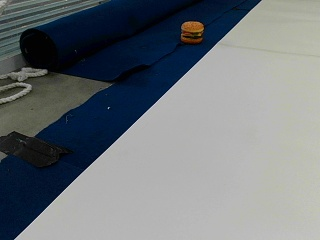burger: (180, 18, 204, 43)
